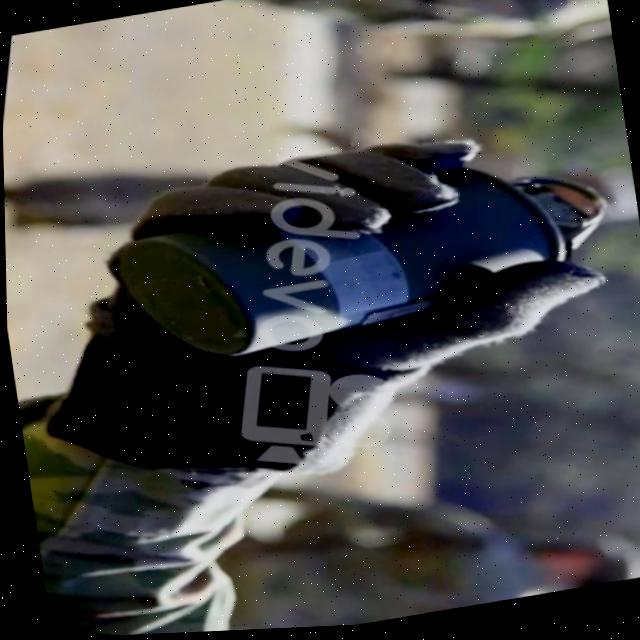grenade: (71, 60, 640, 467)
